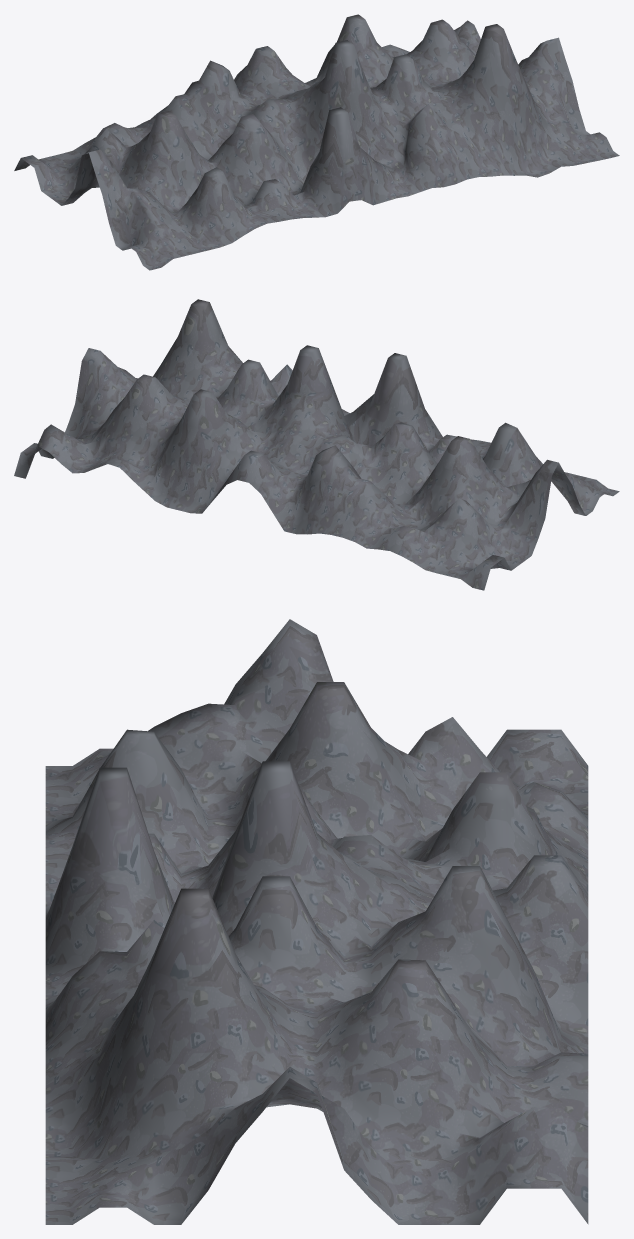
File: Side_Mountain.fbx
3 views of the same model, one above another, from view 1: azimuth 30°, elevation 25°; view 2: azimuth 150°, elevation 25°; view 3: azimuth 270°, elevation 25° (orthographic). The views are drawn at different scales.
Visible parts, largest first — view 1: Side_Mountains; view 2: Side_Mountains; view 3: Side_Mountains.
Boxes of the visible parts, x1=… form: Side_Mountains: x1=14, y1=14, x2=619, y2=270; Side_Mountains: x1=14, y1=299, x2=619, y2=590; Side_Mountains: x1=45, y1=619, x2=588, y2=1224.
Bounding box in the file's own units: 20 × 5.18 × 10.
